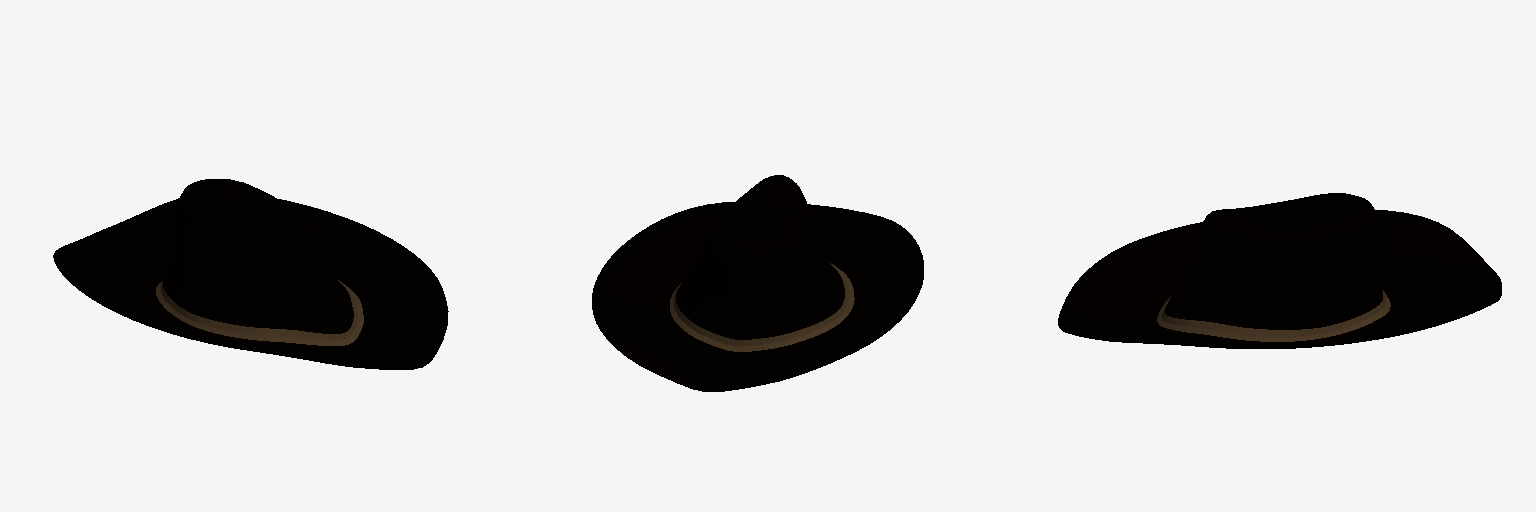
File: Hat.obj
3 views of the same model, side by side, from view 1: azimuth 30°, elevation 25°; view 2: azimuth 150°, elevation 25°; view 3: azimuth 270°, elevation 25° (orthographic).
Parts seen in each view (by area): view 1: Hat_CowboyHat; view 2: Hat_CowboyHat; view 3: Hat_CowboyHat.
Part boxes in pixels (x1,y1,x2,y2): Hat_CowboyHat: (53, 179, 448, 369); Hat_CowboyHat: (592, 175, 923, 391); Hat_CowboyHat: (1058, 193, 1501, 348).
Size of the model in its own units: 0.2219 by 0.0759 by 0.296.